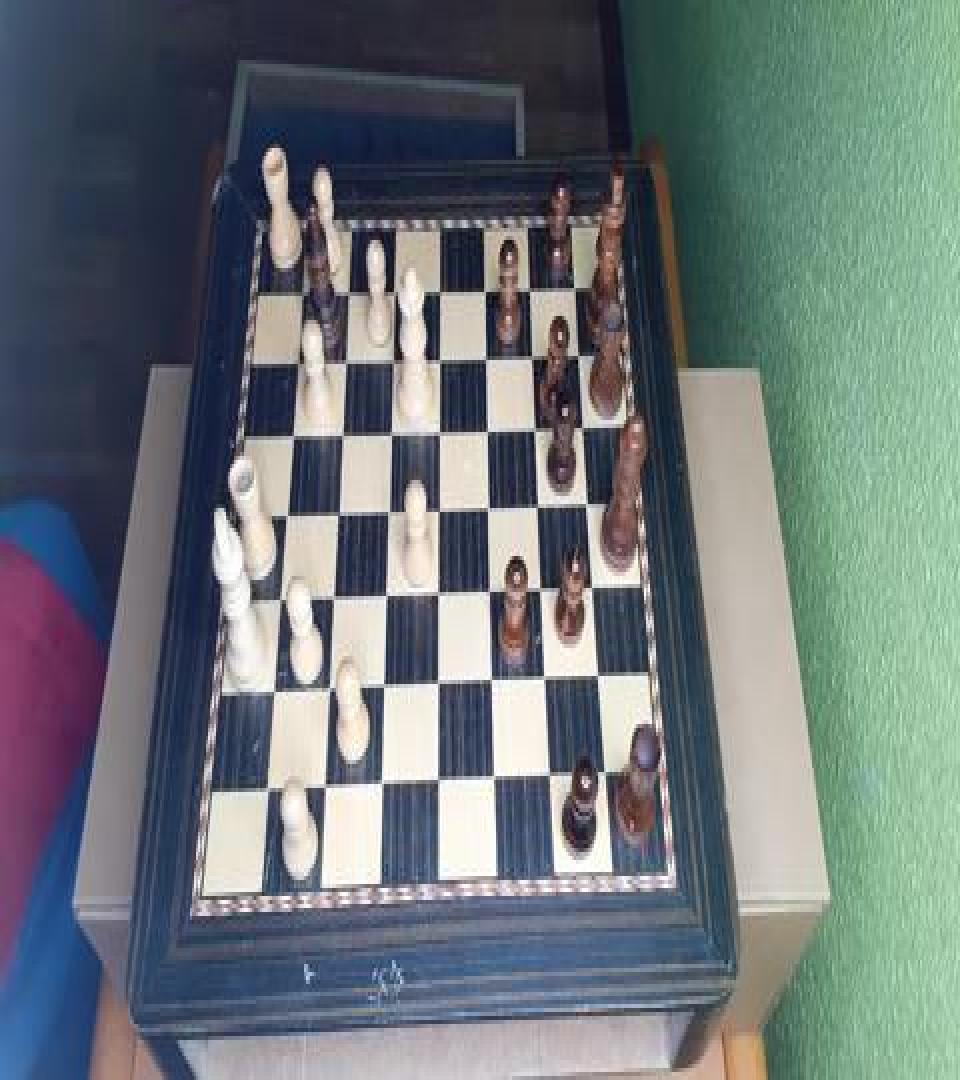xcorner: (569, 272, 583, 300), (523, 272, 537, 300), (477, 272, 491, 300), (431, 272, 445, 300), (385, 272, 399, 300), (338, 272, 352, 300), (290, 272, 304, 300), (573, 340, 587, 368), (526, 340, 540, 368), (479, 342, 493, 370), (431, 342, 445, 370), (383, 342, 397, 370), (335, 344, 349, 372), (286, 344, 300, 372), (578, 414, 592, 442), (529, 414, 543, 442), (480, 416, 494, 444), (431, 416, 445, 444), (381, 418, 395, 446), (331, 418, 345, 446), (281, 420, 295, 448), (583, 492, 597, 520), (533, 494, 547, 522), (482, 496, 496, 524), (431, 496, 445, 524), (380, 498, 394, 526), (328, 500, 342, 528), (275, 500, 289, 528), (588, 578, 602, 606), (536, 578, 550, 606), (484, 580, 498, 608), (431, 582, 445, 610), (378, 584, 392, 612), (324, 586, 338, 614), (269, 588, 283, 616), (594, 668, 608, 696), (540, 670, 554, 698), (485, 672, 499, 700), (431, 674, 445, 702), (375, 676, 389, 704), (320, 678, 334, 706), (263, 680, 277, 708), (600, 766, 614, 794), (544, 768, 558, 796), (487, 770, 501, 798), (431, 774, 445, 802), (373, 776, 387, 804), (315, 780, 329, 808), (256, 782, 270, 810)
